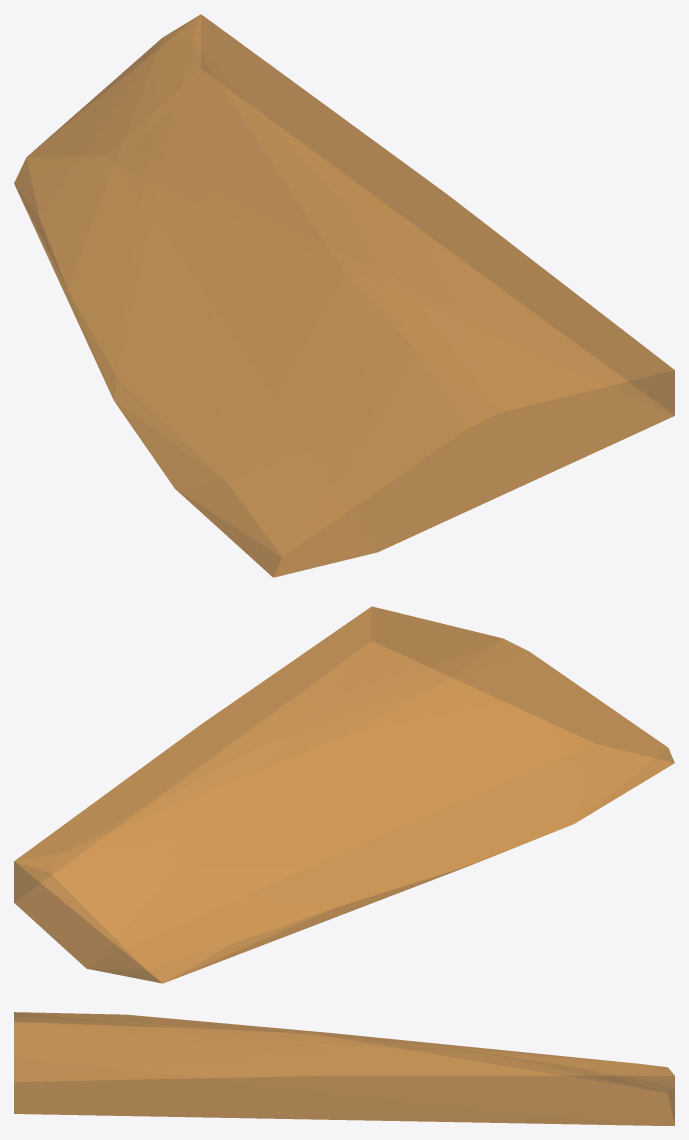
3 views of the same model, one above another, from view 1: azimuth 30°, elevation 25°; view 2: azimuth 150°, elevation 25°; view 3: azimuth 270°, elevation 25° (orthographic). The views are drawn at different scales.
Parts seen in each view (by area): view 1: Shape_IndexedFaceSet.011_Shape_IndexedFaceSet.9022; view 2: Shape_IndexedFaceSet.011_Shape_IndexedFaceSet.9022; view 3: Shape_IndexedFaceSet.011_Shape_IndexedFaceSet.9022.
Part boxes in pixels (bbox=[...]): Shape_IndexedFaceSet.011_Shape_IndexedFaceSet.9022: bbox=[14, 14, 674, 577]; Shape_IndexedFaceSet.011_Shape_IndexedFaceSet.9022: bbox=[14, 606, 674, 983]; Shape_IndexedFaceSet.011_Shape_IndexedFaceSet.9022: bbox=[14, 1012, 674, 1125].
Bounding box in the file's own units: 0.1071 × 0.0302 × 0.2188.
